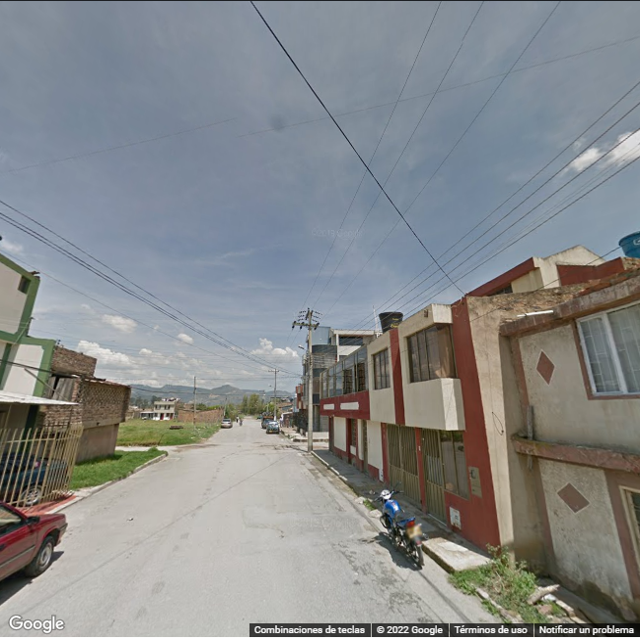D00: (363, 559, 385, 602), (336, 542, 362, 572)
